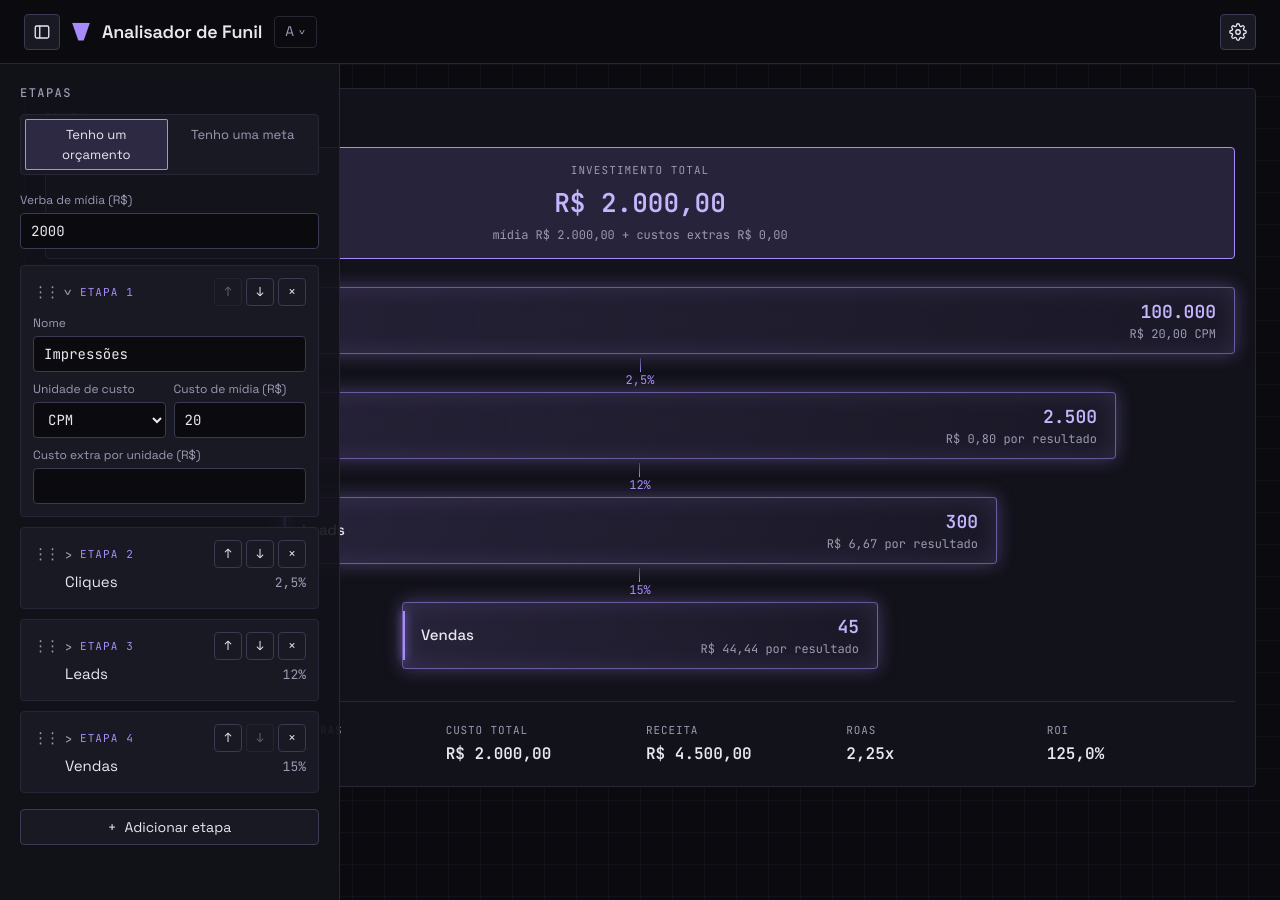
Test: tester3: no app, "Meta em" Receita e meta vazia: preenche com a receita mostrada
This screenshot has width=1280, height=900.
Click the radio button labelled "Tenho uma meta": (243, 134) [191, 126, 294, 143]
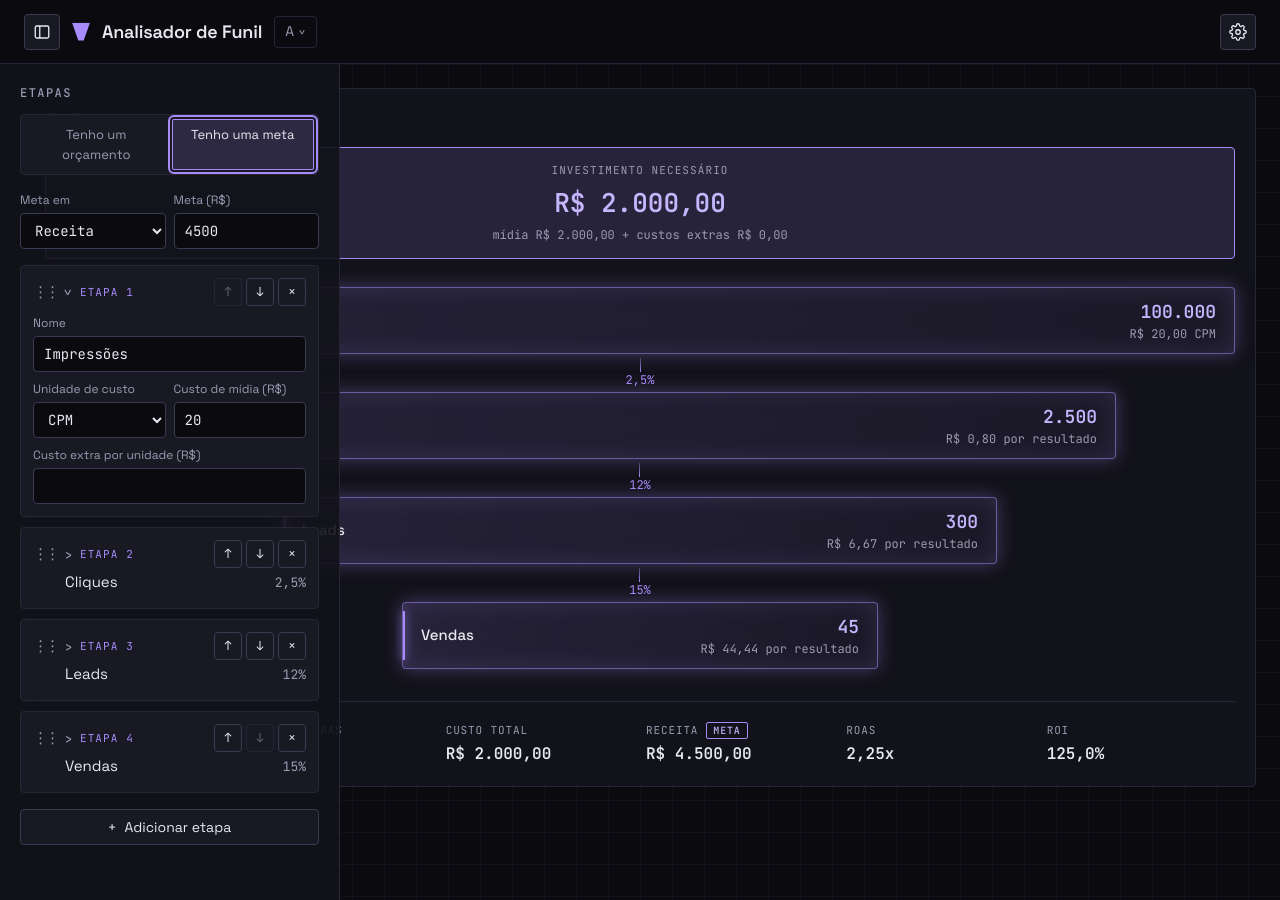
Expected: the dropdown labelled "Meta em" shows "Receita", [20, 213, 166, 249]
Expected: the field labelled "Meta (R$)" holds "4500", [174, 213, 319, 249]
